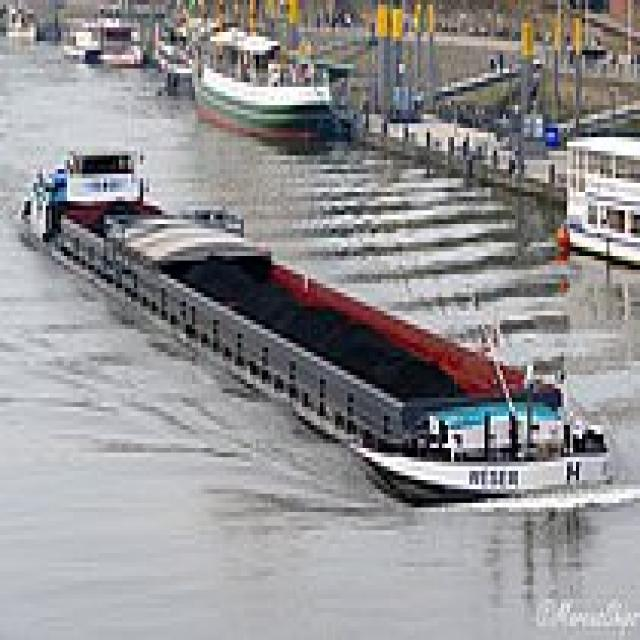Ship: (13, 129, 626, 518)
